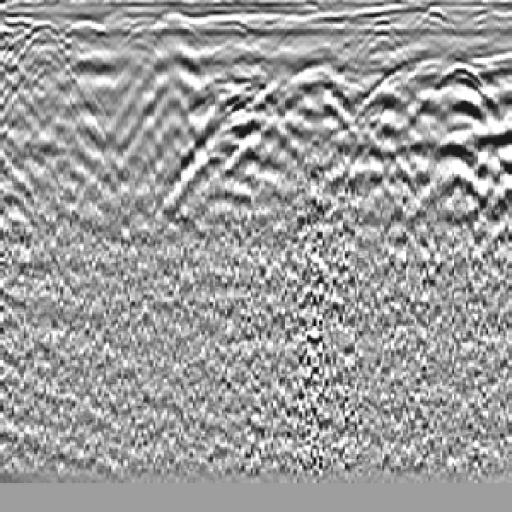non-metallic: (147, 47, 412, 268), (281, 38, 512, 253)
